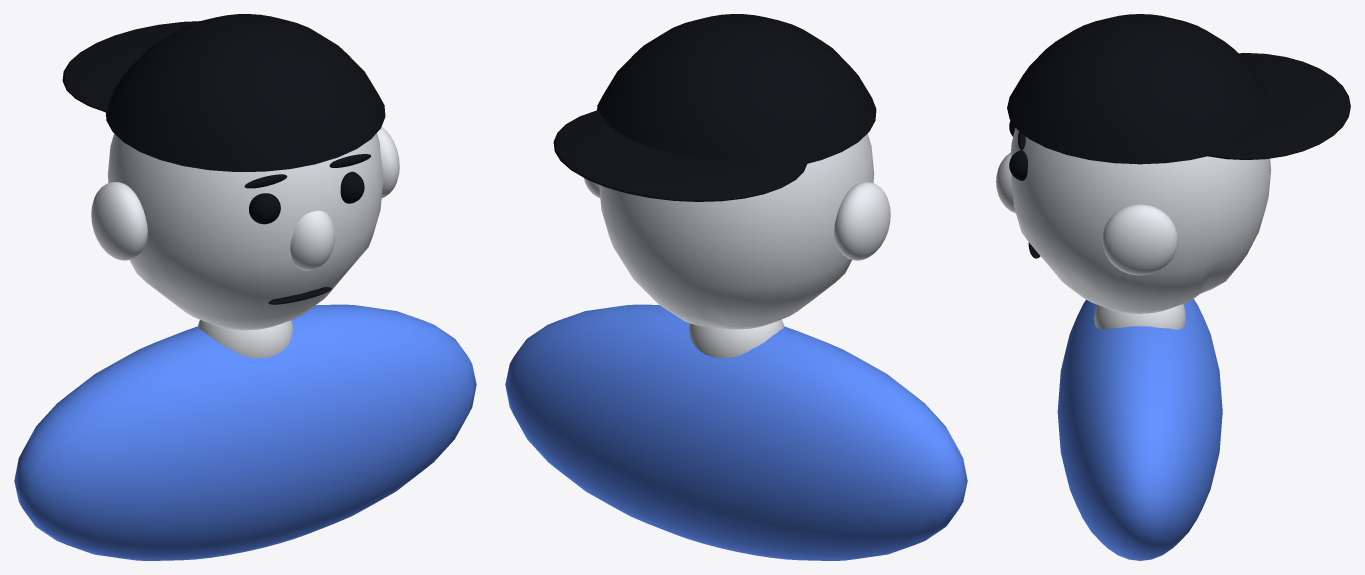
File: portrait_v1.glb
3 views of the same model, side by side, from view 1: azimuth 30°, elevation 25°; view 2: azimuth 150°, elevation 25°; view 3: azimuth 270°, elevation 25° (orthographic). The views are drawn at different scales.
Visible parts, largest first — view 1: shoulder, cap_eyebbrows_lips, head, l_ear, neck, nose, eyes, r_ear; view 2: shoulder, cap_eyebbrows_lips, head, l_ear, neck; view 3: cap_eyebbrows_lips, shoulder, head, r_ear, neck, nose, eyes.
Boxes of the visible parts, box(x1,y1,x2,y2) form: shoulder: box(14, 304, 476, 560); cap_eyebbrows_lips: box(62, 14, 385, 304); head: box(107, 133, 383, 330); l_ear: box(91, 182, 147, 260); neck: box(198, 320, 292, 358); nose: box(290, 210, 334, 270); eyes: box(249, 171, 364, 224); r_ear: box(377, 127, 399, 197); shoulder: box(505, 304, 967, 560); cap_eyebbrows_lips: box(553, 14, 876, 201); head: box(599, 133, 874, 329); l_ear: box(834, 182, 890, 260); neck: box(689, 319, 783, 358); cap_eyebbrows_lips: box(1007, 14, 1350, 258); shoulder: box(1057, 299, 1222, 560); head: box(1010, 128, 1271, 313); r_ear: box(1102, 204, 1177, 275); neck: box(1094, 304, 1185, 329); nose: box(996, 152, 1015, 213); eyes: box(1009, 120, 1027, 180).
Size of the model in its own units: 3.8 by 4.13 by 2.71.
